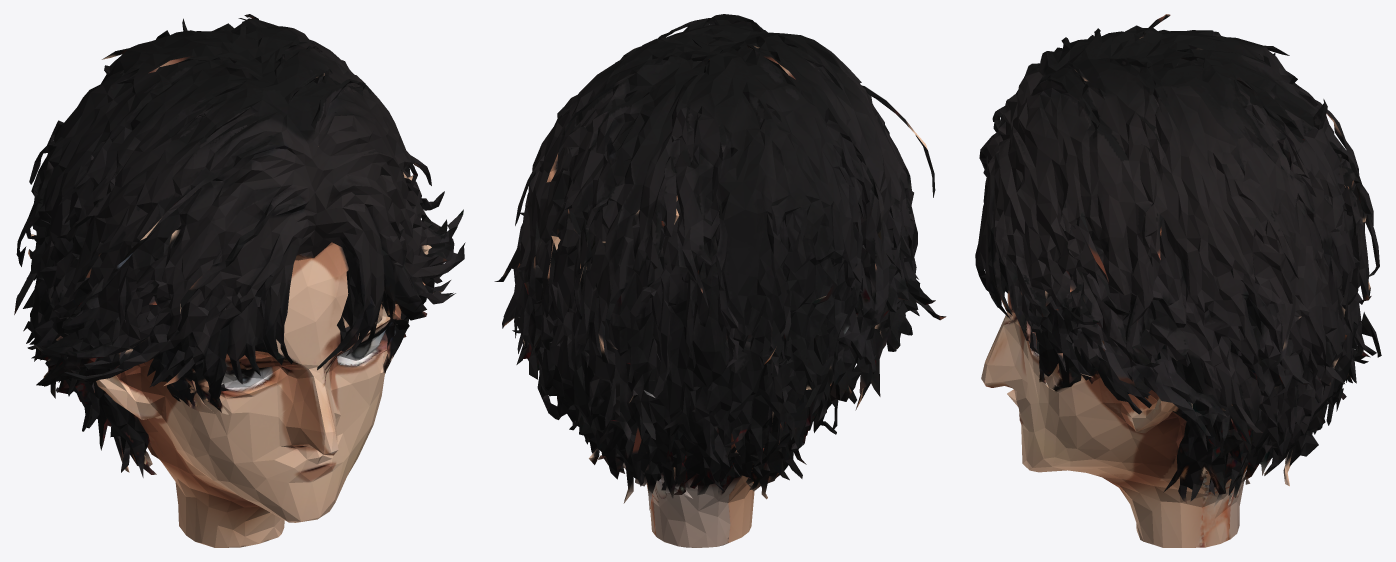
File: side_h_hunter_repaired_atlas.glb
3 views of the same model, side by side, from view 1: azimuth 30°, elevation 25°; view 2: azimuth 150°, elevation 25°; view 3: azimuth 270°, elevation 25° (orthographic). The views are drawn at different scales.
Parts seen in each view (by area): view 1: temp_mesh.ply; view 2: temp_mesh.ply; view 3: temp_mesh.ply.
Boxes of the visible parts, x1,y1,x2,y2 form: temp_mesh.ply: (14,14,465,547); temp_mesh.ply: (494,14,946,547); temp_mesh.ply: (975,14,1381,547).
Size of the model in its own units: 1.73 by 1.97 by 1.5.
Materials: 1 (1 with a texture image).
